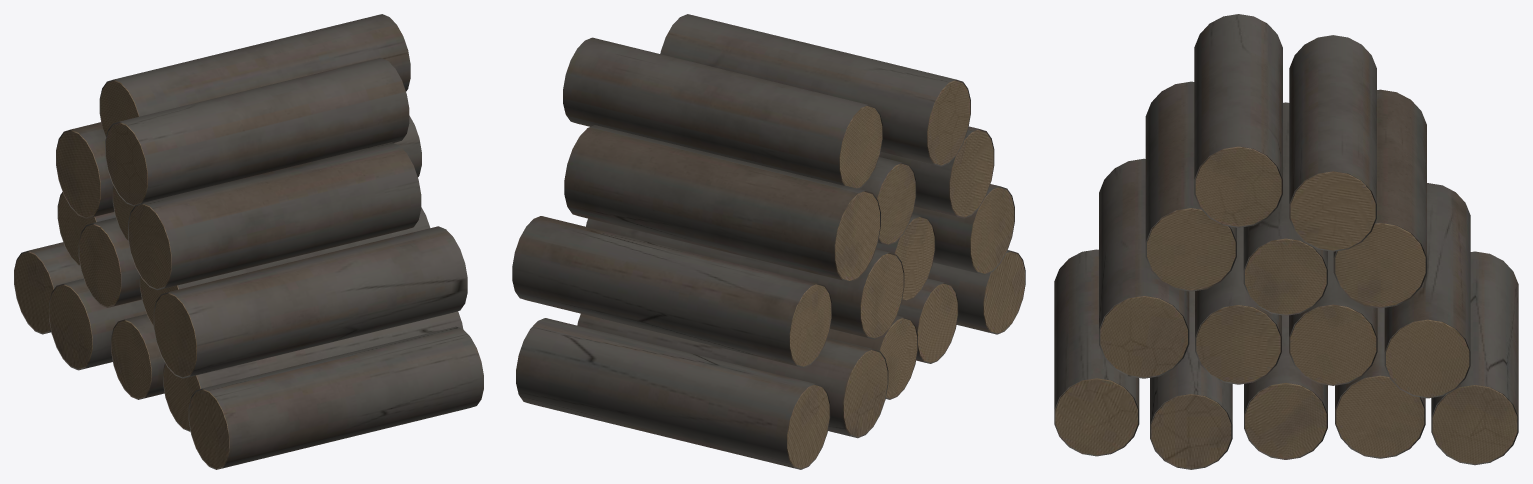
File: log_pile.glb
The picture shows the model from 3 angles, left to right: view 1: azimuth 30°, elevation 25°; view 2: azimuth 150°, elevation 25°; view 3: azimuth 270°, elevation 25°; orthographic projection. The views are drawn at different scales.
Parts seen in each view (by area): view 1: log_pile; view 2: log_pile; view 3: log_pile.
Boxes of the visible parts, box(x1,y1,x2,y2) form: log_pile: box(14, 14, 483, 469); log_pile: box(512, 14, 1025, 469); log_pile: box(1054, 14, 1518, 469).
Size of the model in its own units: 0.6335 by 0.5724 by 0.7861.
1 material, 1 textured.
